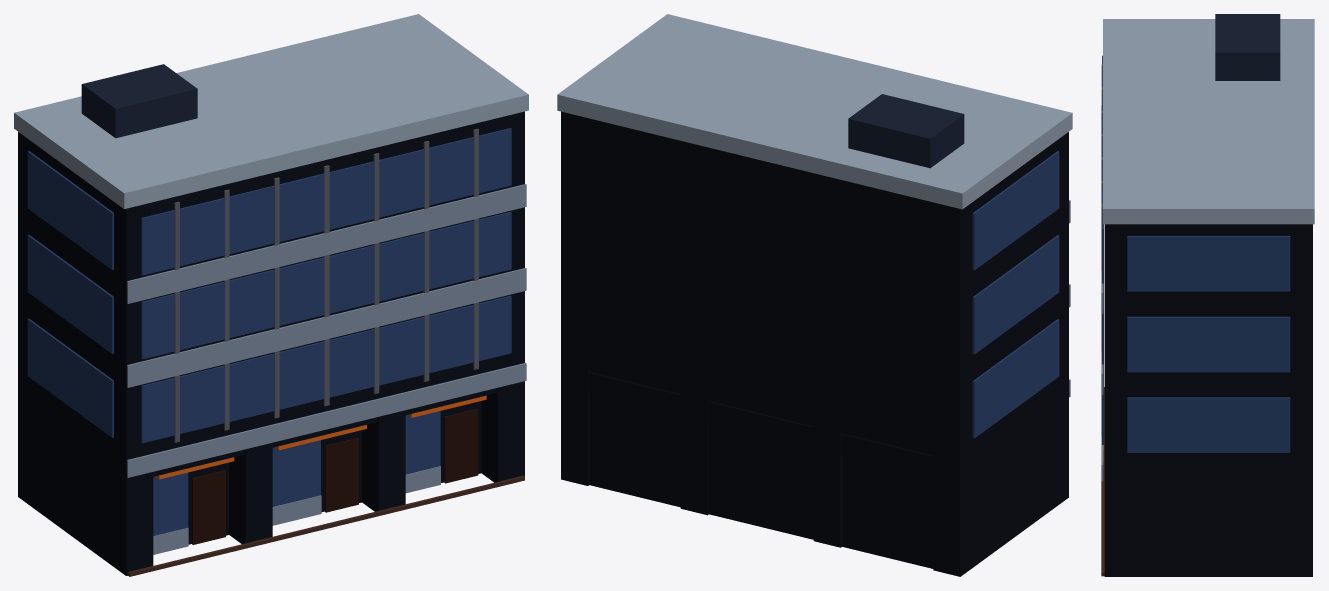
File: exchange1.obj
The picture shows the model from 3 angles, left to right: view 1: azimuth 30°, elevation 25°; view 2: azimuth 150°, elevation 25°; view 3: azimuth 270°, elevation 25°; orthographic projection. The views are drawn at different scales.
Parts seen in each view (by area): view 1: curtain-glazing, parapet, upper-block, base-piers, spandrels, end-glazing, mullions, transom, shop-doors, shopfronts, roof-plant, base-back (+4 smaller); view 2: upper-block, parapet, base-back, base-piers, end-glazing, base-heads, roof-plant; view 3: parapet, end-glazing, upper-block, base-piers, roof-plant, pavement, curtain-glazing, spandrels, mullions.
Boxes of the visible parts, x1,y1,x2,y2 form: curtain-glazing: (141,128,511,443); parapet: (14,14,528,209); upper-block: (18,111,524,459); base-piers: (18,362,524,575); spandrels: (127,184,526,387); end-glazing: (27,151,113,437); mullions: (174,128,478,442); transom: (127,362,526,477); shop-doors: (192,408,478,544); shopfronts: (153,411,440,535); roof-plant: (81,64,197,138); base-back: (188,401,481,544); upper-block: (561,111,1068,459); parapet: (557,14,1072,209); base-back: (589,369,933,568); base-piers: (561,363,1068,576); end-glazing: (972,151,1059,438); base-heads: (588,372,933,477); roof-plant: (848,94,964,168); parapet: (1103,19,1314,224); end-glazing: (1127,236,1290,452); upper-block: (1104,224,1312,464); base-piers: (1104,465,1312,576); roof-plant: (1215,14,1280,80); pavement: (1101,387,1104,576); curtain-glazing: (1102,55,1103,444); spandrels: (1101,106,1103,394); mullions: (1101,64,1103,436).
Size of the model in its own units: 6.9 by 6.74 by 3.27.
